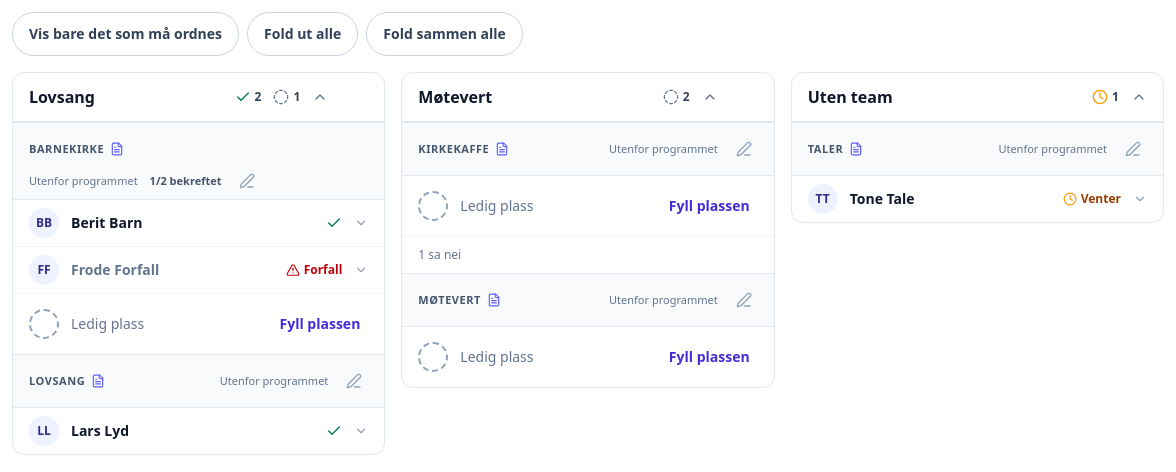
Sa nei › de som sa nei er skjult bak «1 sa nei», og vises når den trykkes
The width and height of the screenshot is (1176, 472).
expect the text "Kari Kjøkken" is not shown: met
Click the button "1 sa nei" at point(443, 254), box [402, 237, 774, 273]
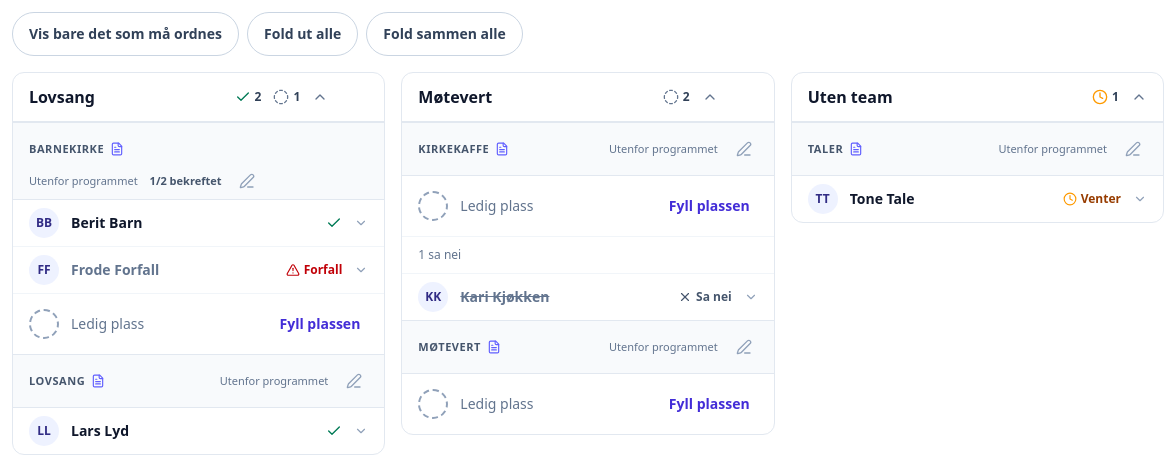
expect the text "Kari Kjøkken" is shown: met, box [460, 287, 549, 306]
